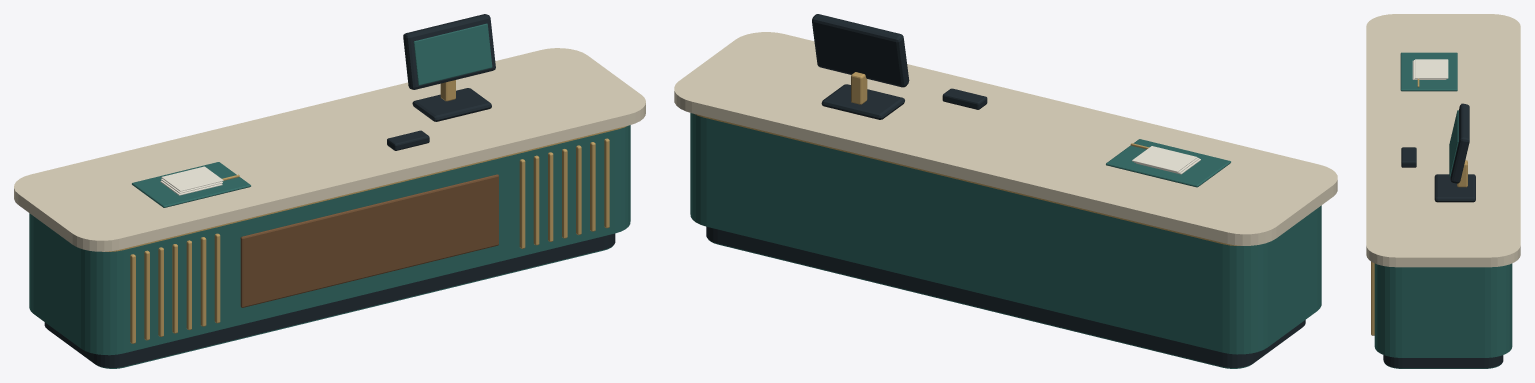
The model's file is teller-desk.glb.
3 renders of one model, left to right at view 1: azimuth 30°, elevation 25°; view 2: azimuth 150°, elevation 25°; view 3: azimuth 270°, elevation 25°, orthographic. The views are drawn at different scales.
Parts seen in each view (by area): view 1: EXPORT_PRP_teller_top, EXPORT_PRP_teller_body, EXPORT_PRP_teller_front_inset, EXPORT_PRP_teller_toe, EXPORT_PRP_teller_rim, EXPORT_PRP_teller_document_0; view 2: EXPORT_PRP_teller_body, EXPORT_PRP_teller_top, EXPORT_PRP_teller_toe, EXPORT_PRP_teller_rim, EXPORT_PRP_teller_document_0; view 3: EXPORT_PRP_teller_top, EXPORT_PRP_teller_body, EXPORT_PRP_teller_toe, EXPORT_PRP_teller_document_0, EXPORT_PRP_teller_rim.
Part boxes in pixels (left/top/right/bottom): EXPORT_PRP_teller_top: left=14, top=48, right=645, bottom=251; EXPORT_PRP_teller_body: left=29, top=23, right=630, bottom=368; EXPORT_PRP_teller_front_inset: left=240, top=174, right=498, bottom=307; EXPORT_PRP_teller_toe: left=44, top=14, right=615, bottom=367; EXPORT_PRP_teller_rim: left=102, top=80, right=626, bottom=343; EXPORT_PRP_teller_document_0: left=160, top=166, right=223, bottom=195; EXPORT_PRP_teller_body: left=690, top=113, right=1321, bottom=368; EXPORT_PRP_teller_top: left=674, top=32, right=1337, bottom=245; EXPORT_PRP_teller_toe: left=706, top=14, right=1305, bottom=367; EXPORT_PRP_teller_rim: left=694, top=72, right=1240, bottom=245; EXPORT_PRP_teller_document_0: left=1132, top=146, right=1200, bottom=174; EXPORT_PRP_teller_top: left=1366, top=14, right=1520, bottom=267; EXPORT_PRP_teller_body: left=1374, top=52, right=1512, bottom=368; EXPORT_PRP_teller_toe: left=1383, top=103, right=1503, bottom=368; EXPORT_PRP_teller_document_0: left=1412, top=59, right=1448, bottom=79; EXPORT_PRP_teller_rim: left=1371, top=78, right=1467, bottom=335.
Bounding box in the file's own units: 4.85 × 1.79 × 1.3.
